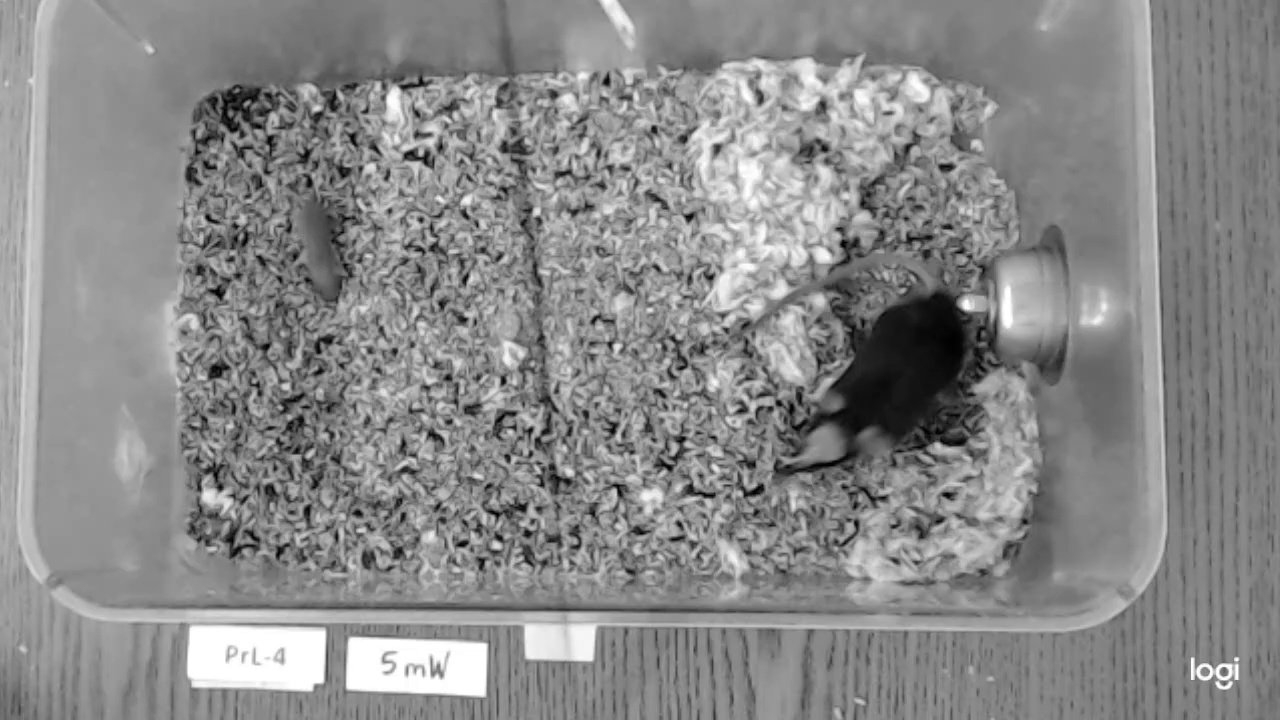parent-mice: (794, 291, 972, 473)
